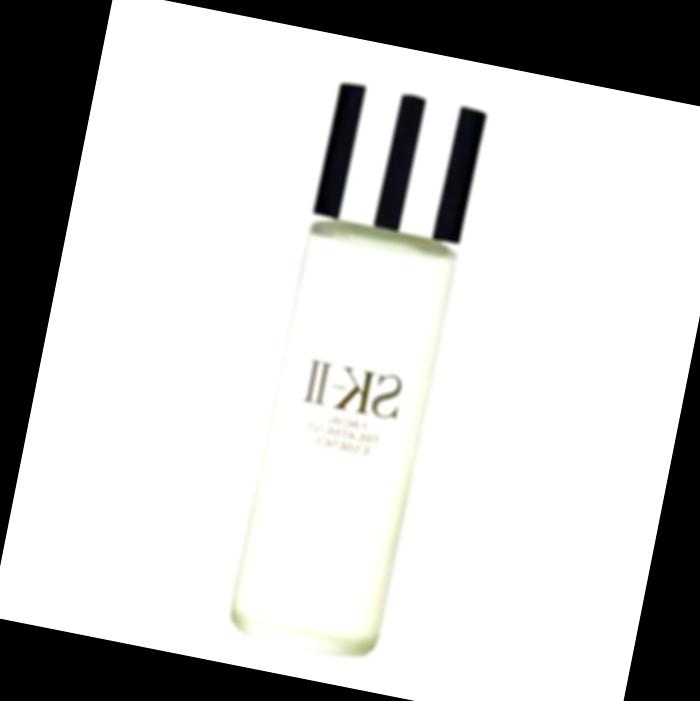cosmetic: (219, 82, 489, 667)
